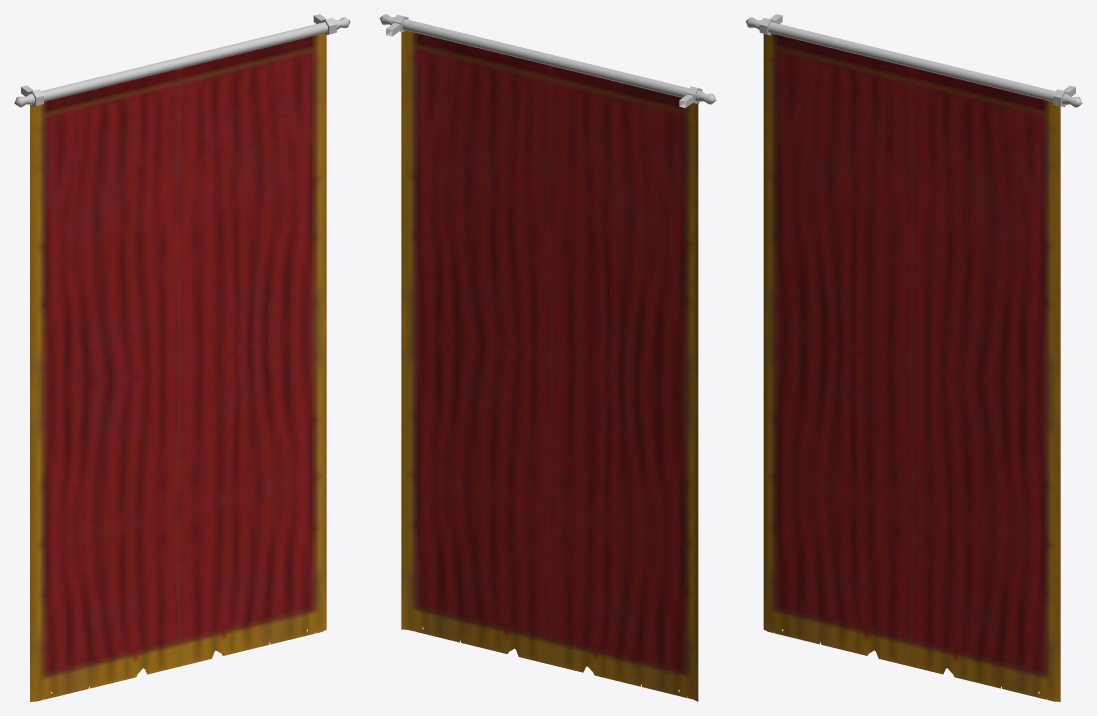
The model's file is Curtain_3B.fbx.
The picture shows the model from 3 angles, left to right: view 1: azimuth 30°, elevation 25°; view 2: azimuth 150°, elevation 25°; view 3: azimuth 330°, elevation 25°; orthographic projection.
Visible parts, largest first — view 1: Alpha, polySurface7640; view 2: Alpha, polySurface7640; view 3: Alpha, polySurface7640.
Part boxes in pixels (box(x1,y1,x2,y2)): Alpha: box(30, 33, 326, 701); polySurface7640: box(14, 14, 350, 107); Alpha: box(401, 30, 698, 701); polySurface7640: box(379, 14, 716, 108); Alpha: box(763, 33, 1060, 701); polySurface7640: box(745, 14, 1082, 107).
Size of the model in its own units: 4.36 by 7.58 by 0.3868.
